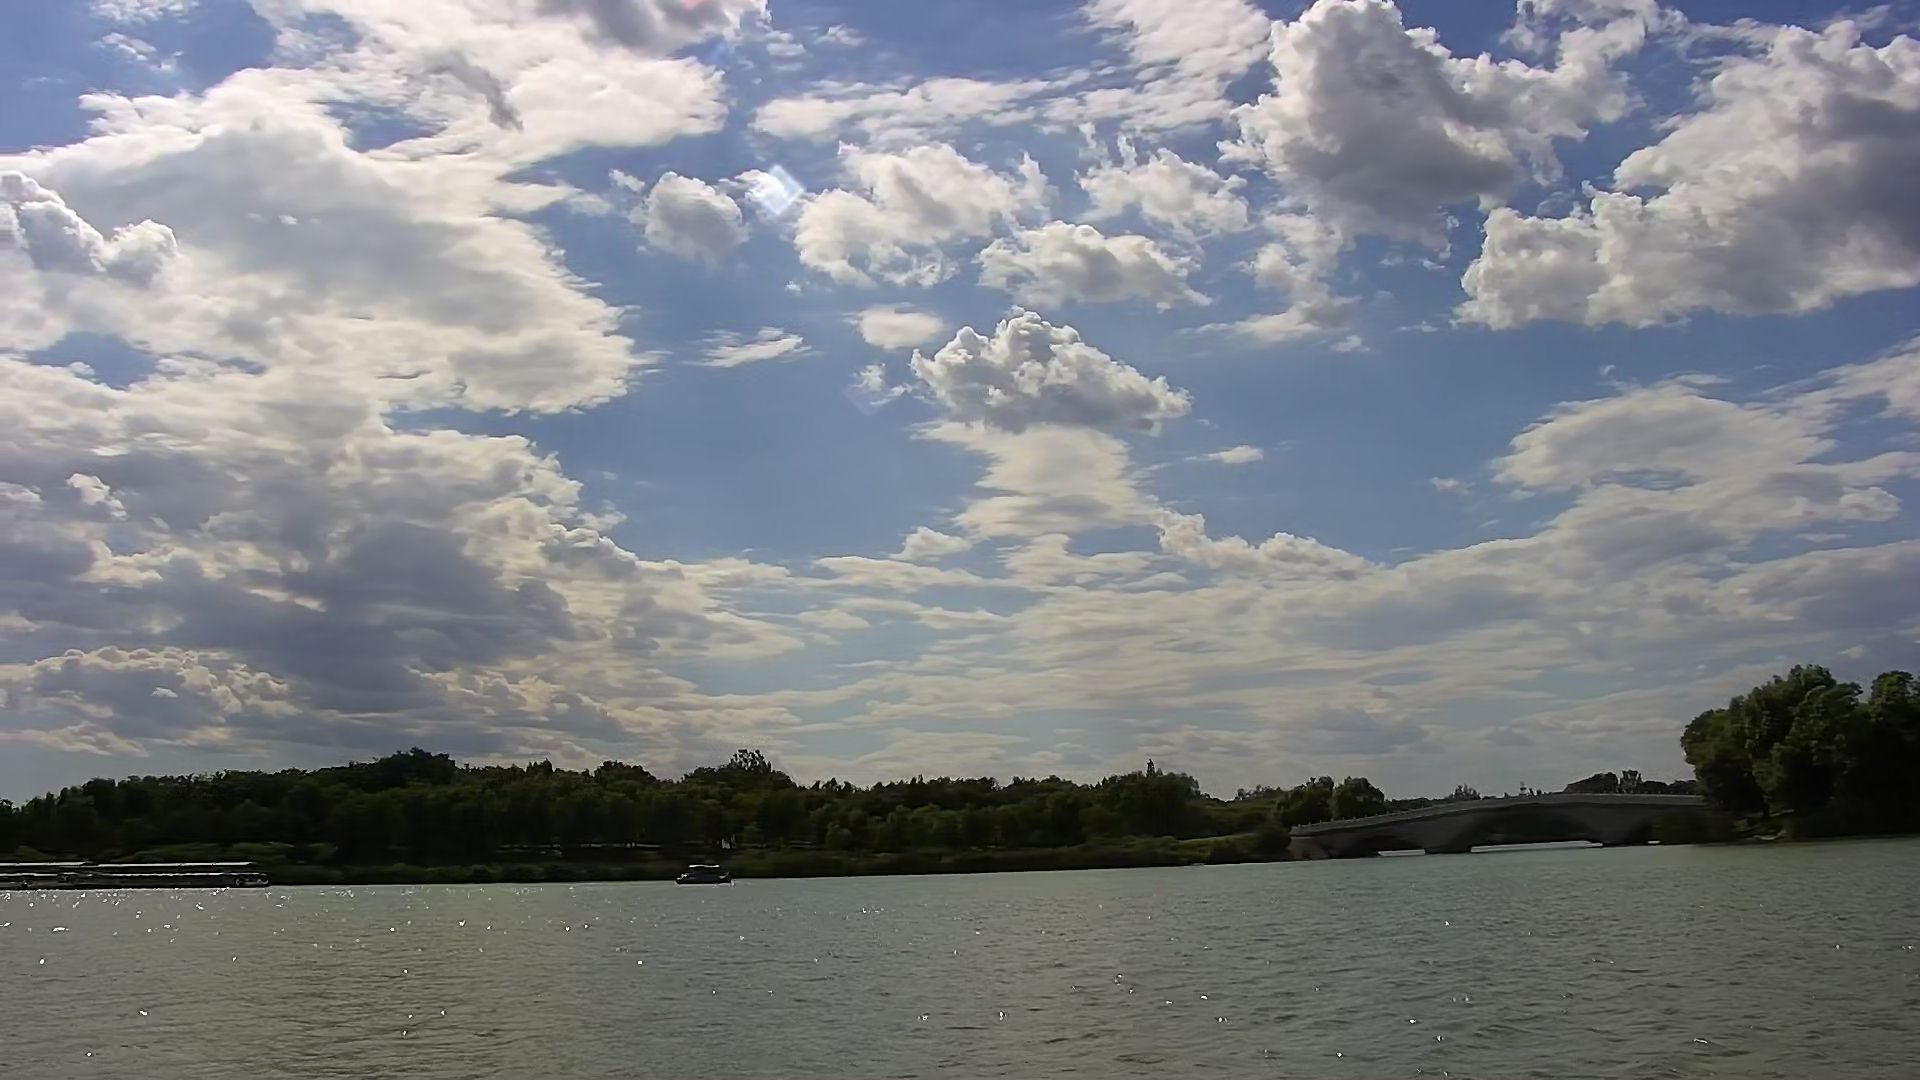boat: (673, 858, 738, 895)
bridge: (1288, 790, 1713, 858)
harbor: (1, 858, 274, 891)
